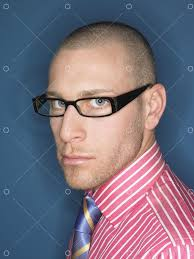Glasses: (21, 86, 148, 121)
